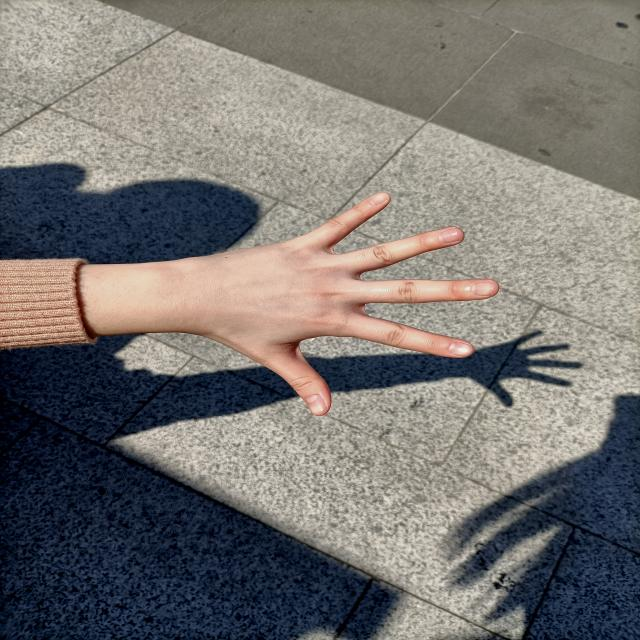no_glove: (160, 180, 507, 420)
